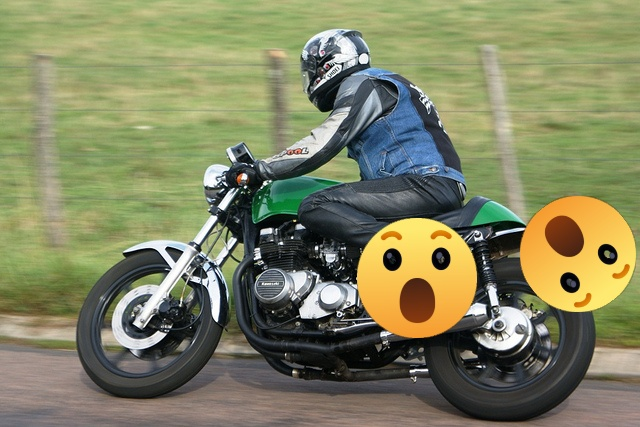wow: (357, 218, 477, 338), (520, 196, 636, 312)
